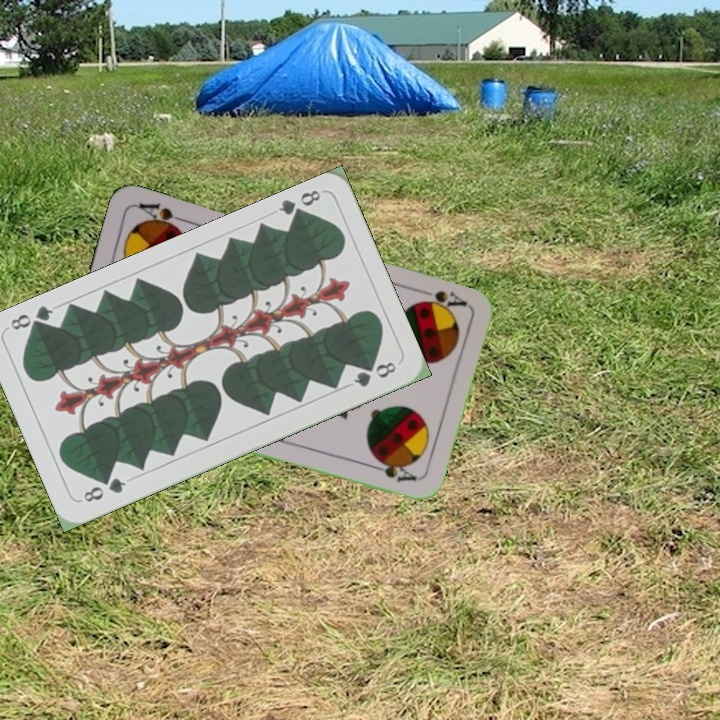G8: (274, 185, 324, 223), (79, 473, 129, 505)
SA: (411, 284, 469, 313)
